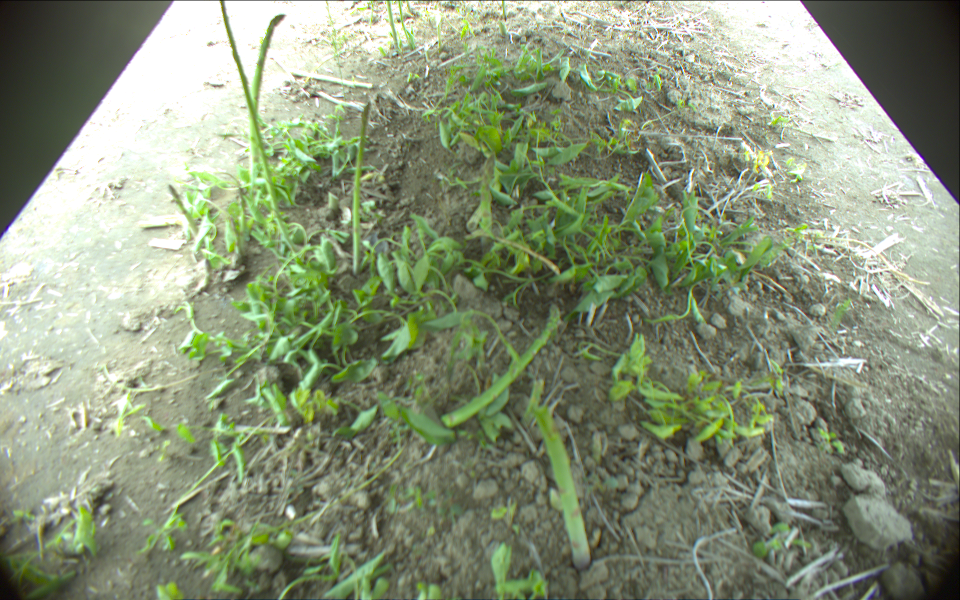aspa: (218, 1, 295, 246), (439, 303, 562, 430), (529, 406, 592, 566), (250, 12, 289, 167), (267, 52, 373, 90), (350, 102, 373, 276), (165, 182, 201, 241), (397, 1, 419, 49), (386, 1, 402, 49), (500, 1, 509, 21)
